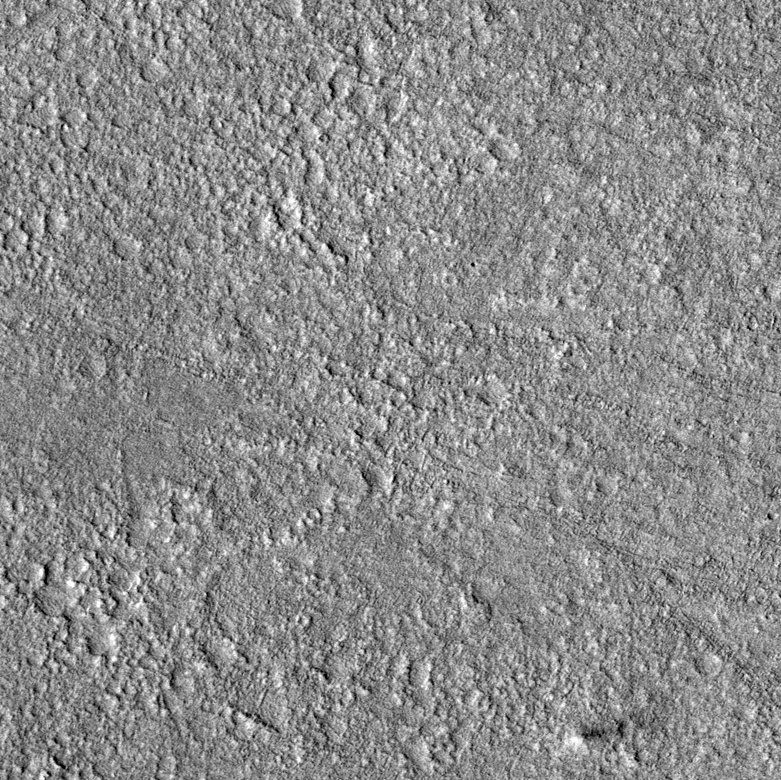dust_devil: (566, 717, 629, 751)
